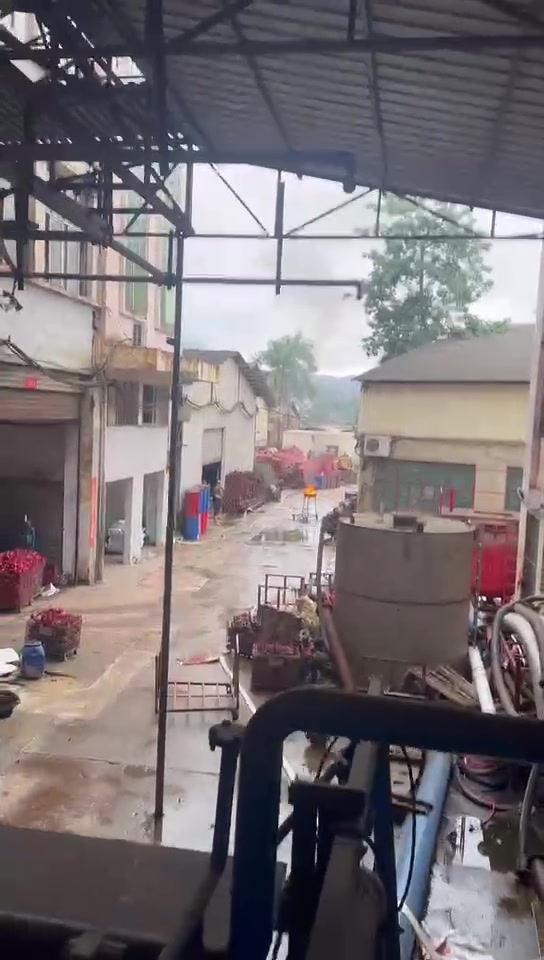fire: (302, 484, 316, 494)
